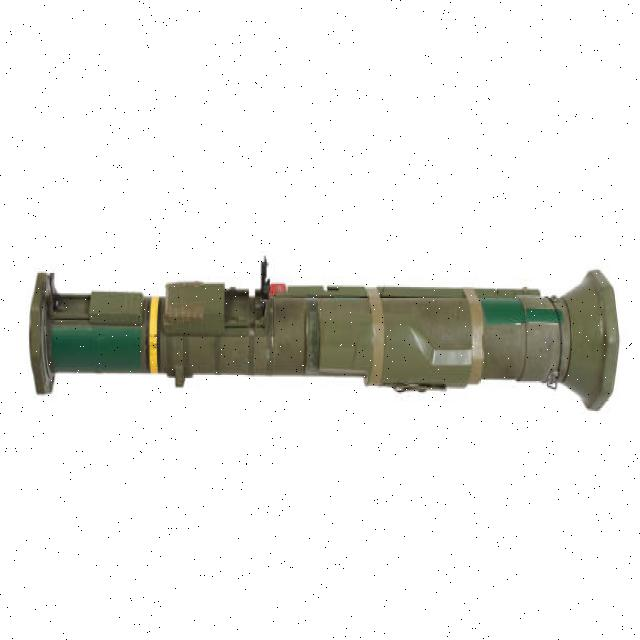bazooka: (28, 252, 627, 425)
